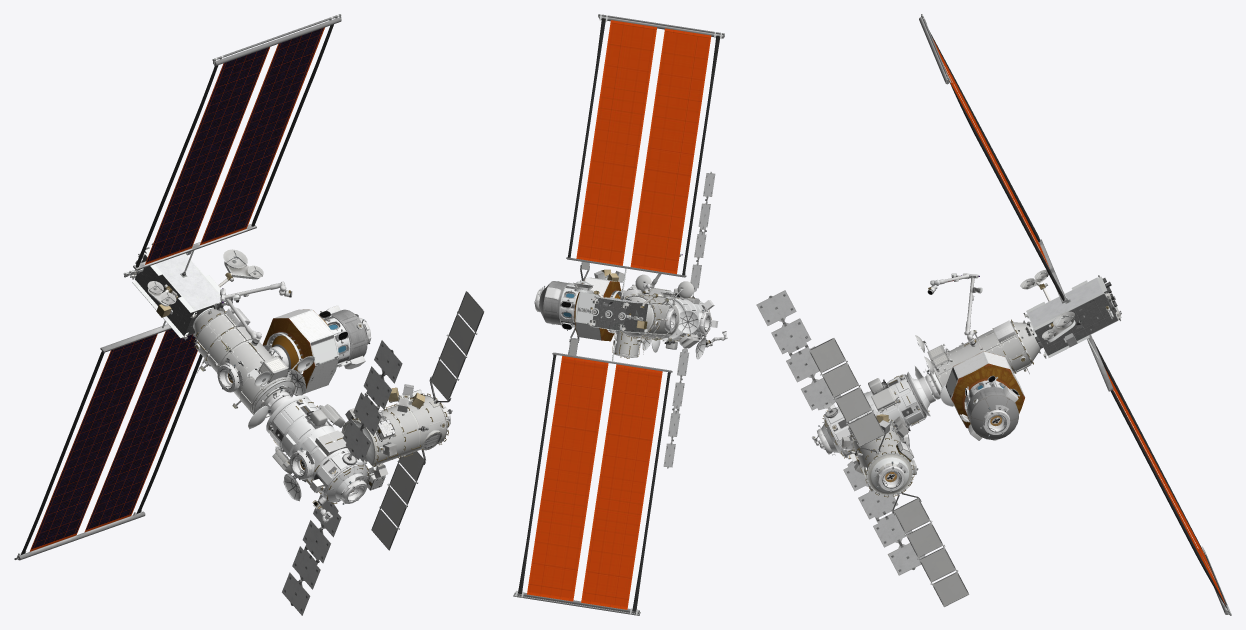
Rendered from gateway.glb.
3 renders of one model, left to right at view 1: azimuth 30°, elevation 25°; view 2: azimuth 150°, elevation 25°; view 3: azimuth 270°, elevation 25°, orthographic. The views are drawn at different scales.
Parts seen in each view (by area): view 1: Maxar_PPE Array, I-Hab, NG_HALO.001, ERMXL_LoRes, Maxar_PPE.001, I-Hab Radiator, Airlock, Airlock_radiator; view 2: Maxar_PPE Array, ERMXL_LoRes, Maxar_PPE.001, I-Hab Radiator, NG_HALO.001, I-Hab, Airlock, NDS Shutter.003, Airlock_radiator; view 3: Airlock_radiator, I-Hab Radiator, Maxar_PPE Array, Maxar_PPE.001, ERMXL_LoRes, NG_HALO.001, I-Hab, Airlock.
Part boxes in pixels (left/top/right/bottom): Maxar_PPE Array: left=14, top=14, right=341, bottom=560; I-Hab: left=266, top=395, right=372, bottom=503; NG_HALO.001: left=193, top=307, right=314, bottom=417; ERMXL_LoRes: left=262, top=305, right=367, bottom=393; Maxar_PPE.001: left=123, top=243, right=263, bottom=340; I-Hab Radiator: left=282, top=340, right=402, bottom=615; Airlock: left=341, top=384, right=452, bottom=490; Airlock_radiator: left=371, top=290, right=484, bottom=550; Maxar_PPE Array: left=513, top=14, right=724, bottom=615; ERMXL_LoRes: left=539, top=277, right=624, bottom=341; Maxar_PPE.001: left=573, top=281, right=675, bottom=334; I-Hab Radiator: left=663, top=172, right=715, bottom=468; NG_HALO.001: left=620, top=274, right=693, bottom=354; I-Hab: left=662, top=288, right=718, bottom=349; Airlock: left=594, top=269, right=650, bottom=358; NDS Shutter.003: left=678, top=310, right=699, bottom=333; Airlock_radiator: left=568, top=262, right=589, bottom=355; Airlock_radiator: left=809, top=338, right=969, bottom=607; I-Hab Radiator: left=756, top=290, right=925, bottom=575; Maxar_PPE Array: left=919, top=14, right=1231, bottom=615; Maxar_PPE.001: left=1020, top=269, right=1121, bottom=358; ERMXL_LoRes: left=945, top=351, right=1025, bottom=440; NG_HALO.001: left=915, top=319, right=1040, bottom=396; I-Hab: left=821, top=372, right=930, bottom=463; Airlock: left=841, top=411, right=918, bottom=497.
Bounding box in the file's own units: 0.6829 × 1.49 × 1.15.
13 materials, 13 textured.
